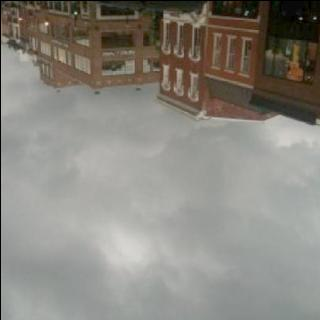Nimbostratus: (0, 57, 320, 320)
